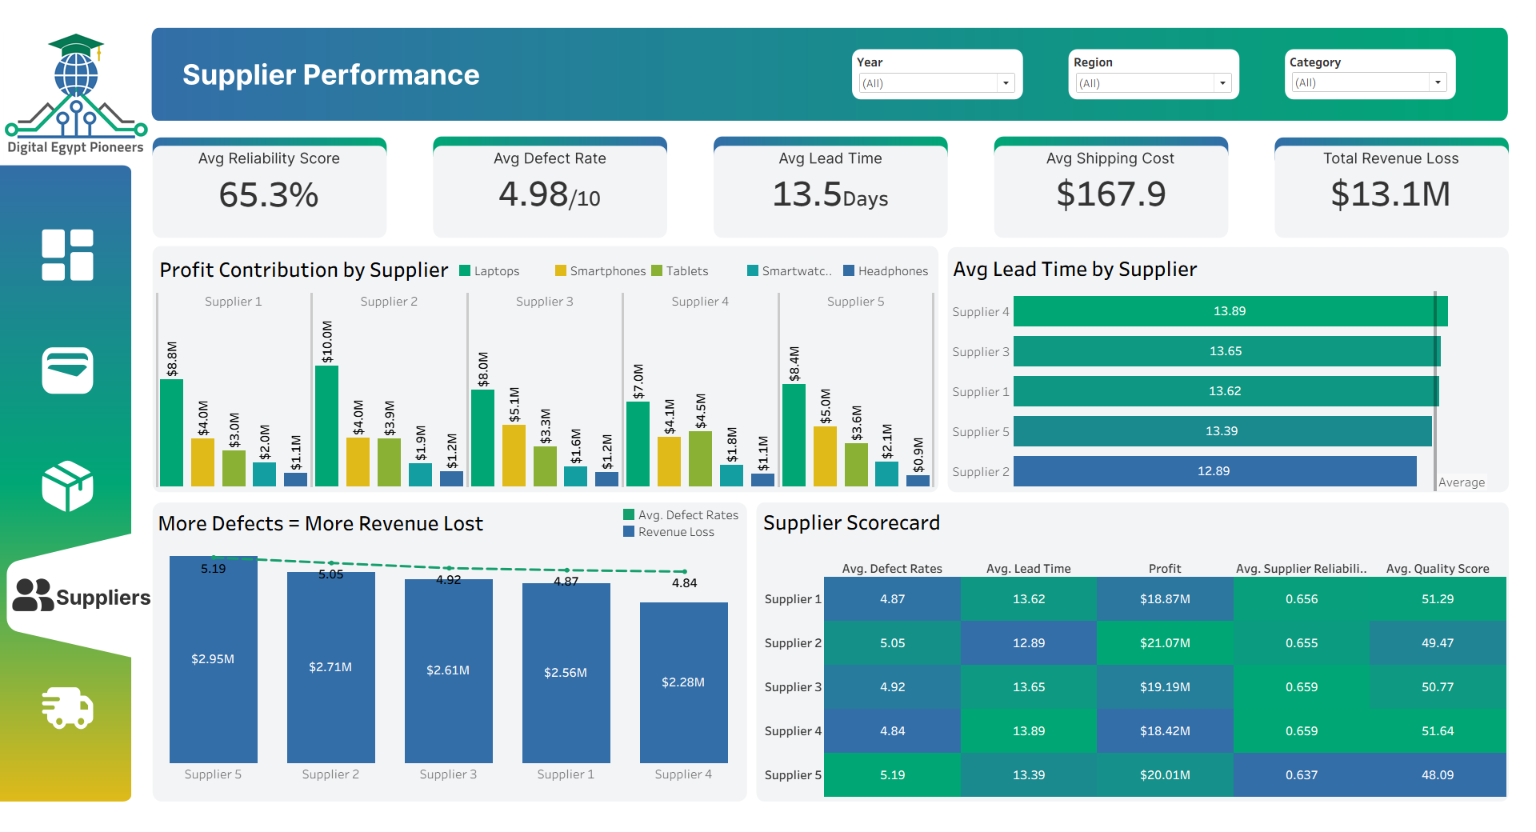

What the dashboard file says about the page in this screenshot:
{"tool":"tableau","page":{"name":"Supplier Performance Dashboard ","canvas":[1890,1042],"ordinal":4},"visuals":[{"type":"filter","title":"Sheet 45","param":"[federated.1a7ek0n1dui9pj16nsocf1yl686t].[yr:order_date:ok]","box":[1052,63,209,59]},{"type":"filter","title":"Sheet 45","param":"[federated.1a7ek0n1dui9pj16nsocf1yl686t].[none:region:nk]","box":[1323,63,209,59]},{"type":"filter","title":"Sheet 45","param":"[federated.1a7ek0n1dui9pj16nsocf1yl686t].[none:category:nk]","box":[1593,63,208,58]},{"type":"worksheet","title":"Avg Reliability Score","mark":"Automatic","box":[176,183.9,291,115.3]},{"type":"worksheet","title":"Avg Defect Rate","mark":"Automatic","box":[526,183.9,293,114.3]},{"type":"worksheet","title":"Avg Lead Time","mark":"Automatic","box":[878,183.9,291,114.3]},{"type":"worksheet","title":"Sheet 54","mark":"Automatic","box":[1229,183.9,291,113.3]},{"type":"worksheet","title":"Total Revenue Loss","mark":"Automatic","box":[1578,184.9,293,112.3]},{"type":"dashboard-object","box":[6,254.5,141,124.3]},{"type":"legend","title":"Sheet 44","param":"[federated.1a7ek0n1dui9pj16nsocf1yl686t].[none:product_type:nk]","box":[556,306,614,43]},{"type":"worksheet","title":"Sheet 46","mark":"Automatic","rows":["supplier_name"],"cols":["lead_time"],"box":[1172,314.2,696,300.3]},{"type":"worksheet","title":"Sheet 44","mark":"Automatic","rows":["profit"],"cols":["supplier_name","product_type"],"box":[179,315.2,975,295.3]},{"type":"dashboard-object","box":[9,406.7,135,125.3]},{"type":"dashboard-object","box":[10,547.8,130,123.3]},{"type":"legend","title":"Sheet 45","param":"[federated.1a7ek0n1dui9pj16nsocf1yl686t].[:Measure Names]","box":[761,611.5,153,63.6]},{"type":"worksheet","title":"Sheet 43","mark":"Square","rows":["supplier_name"],"box":[935,631.4,933,364.9]},{"type":"worksheet","title":"Sheet 45","mark":"Automatic","rows":["Calculation_0370552370987011","defect_rates"],"cols":["supplier_name"],"box":[178,632.4,736,361.9]},{"type":"dashboard-object","box":[3,827.2,141,125.3]}]}

Visuals, with their boxes in screenshot pixels (x1, y1, x2, y2), scaled from the page's 1890x1042 canvas onto the 1536x832 screenshot:
"Sheet 45" filter: bbox(855, 50, 1025, 97)
"Sheet 45" filter: bbox(1075, 50, 1245, 97)
"Sheet 45" filter: bbox(1295, 50, 1464, 97)
"Avg Reliability Score" worksheet: bbox(143, 147, 380, 239)
"Avg Defect Rate" worksheet: bbox(427, 147, 666, 238)
"Avg Lead Time" worksheet: bbox(714, 147, 950, 238)
"Sheet 54" worksheet: bbox(999, 147, 1235, 237)
"Total Revenue Loss" worksheet: bbox(1282, 148, 1521, 237)
dashboard-object: bbox(5, 203, 119, 302)
"Sheet 44" legend: bbox(452, 244, 951, 279)
"Sheet 46" worksheet: bbox(952, 251, 1518, 491)
"Sheet 44" worksheet: bbox(145, 252, 938, 487)
dashboard-object: bbox(7, 325, 117, 425)
dashboard-object: bbox(8, 437, 114, 536)
"Sheet 45" legend: bbox(618, 488, 743, 539)
"Sheet 43" worksheet (Square marks): bbox(760, 504, 1518, 796)
"Sheet 45" worksheet: bbox(145, 505, 743, 794)
dashboard-object: bbox(2, 660, 117, 761)
